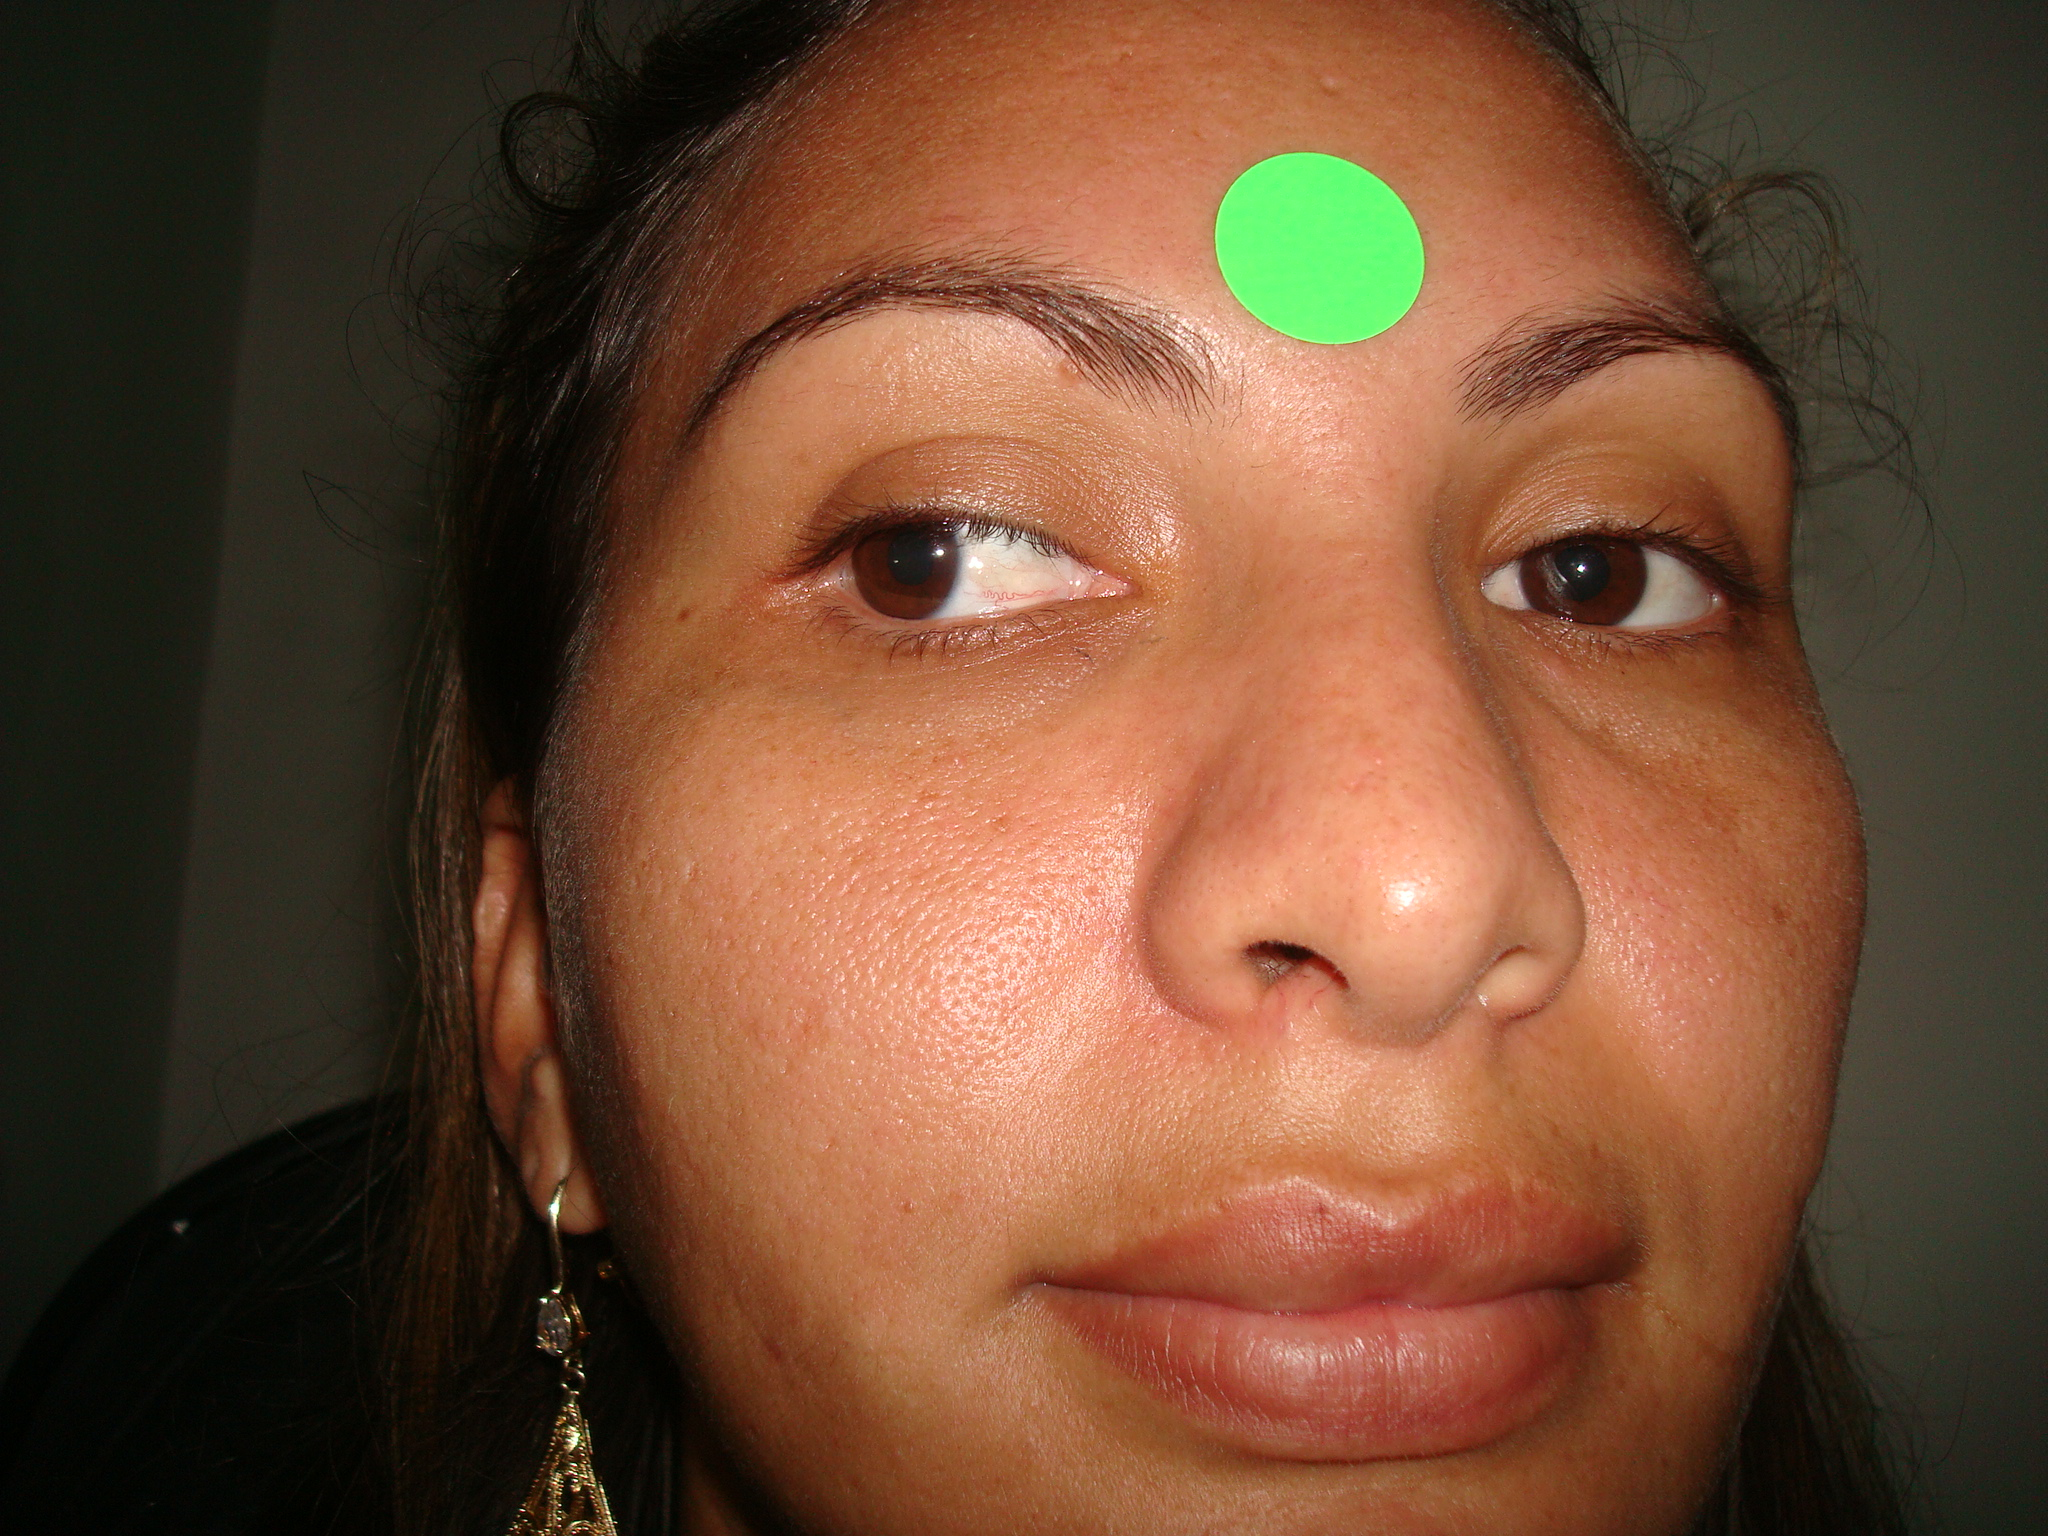flash: (932, 544, 950, 560), (1574, 561, 1588, 576)
limbo: (1511, 520, 1651, 626), (858, 500, 959, 620)
